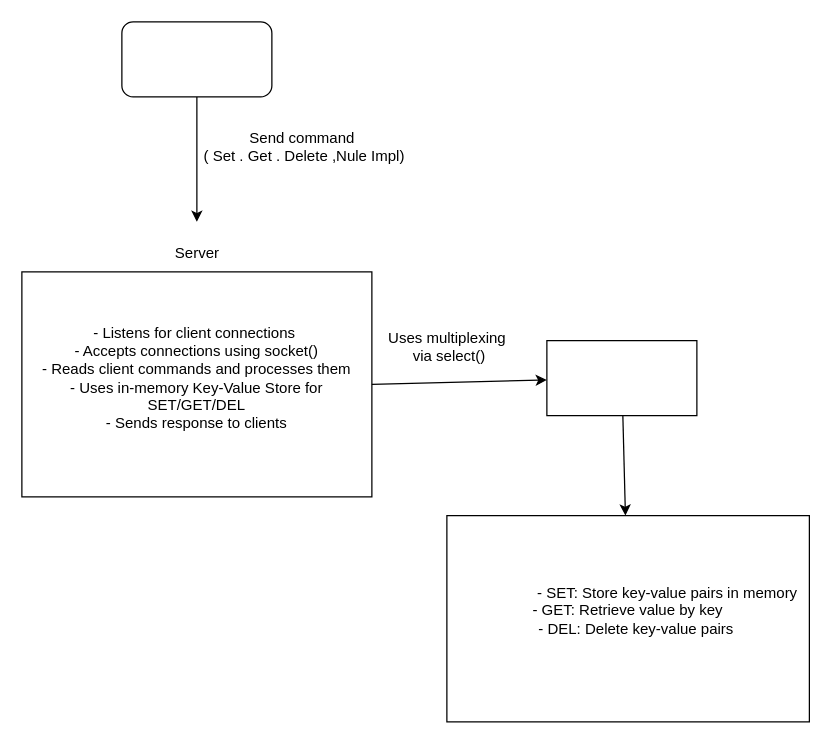
The diagram is 831 pixels wide and 744 high, and some of its shapes have lost their labels. Each missing label, with the centre of its shape:
Client: pixel 196 59
Key-Value Store (In-memory): pixel 621 377
